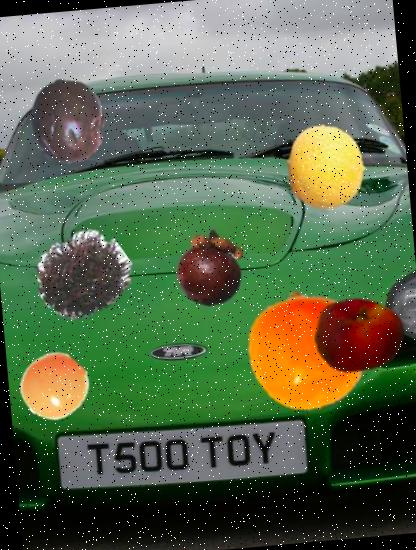Cantaloupe: (280, 121, 374, 214)
Mangostan: (172, 228, 252, 310)
Nectarine: (311, 287, 409, 385)
Passion: (21, 75, 116, 170)
Physalis: (240, 283, 373, 416), (17, 350, 91, 424)
Rambutan: (31, 223, 134, 325)
